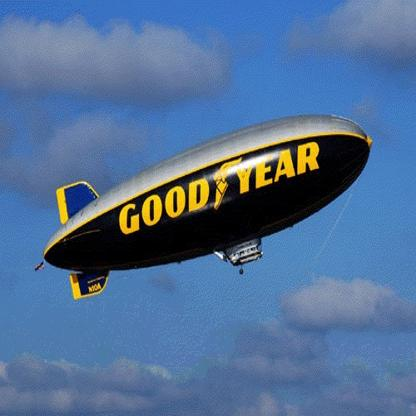Airship: (35, 113, 372, 300)
